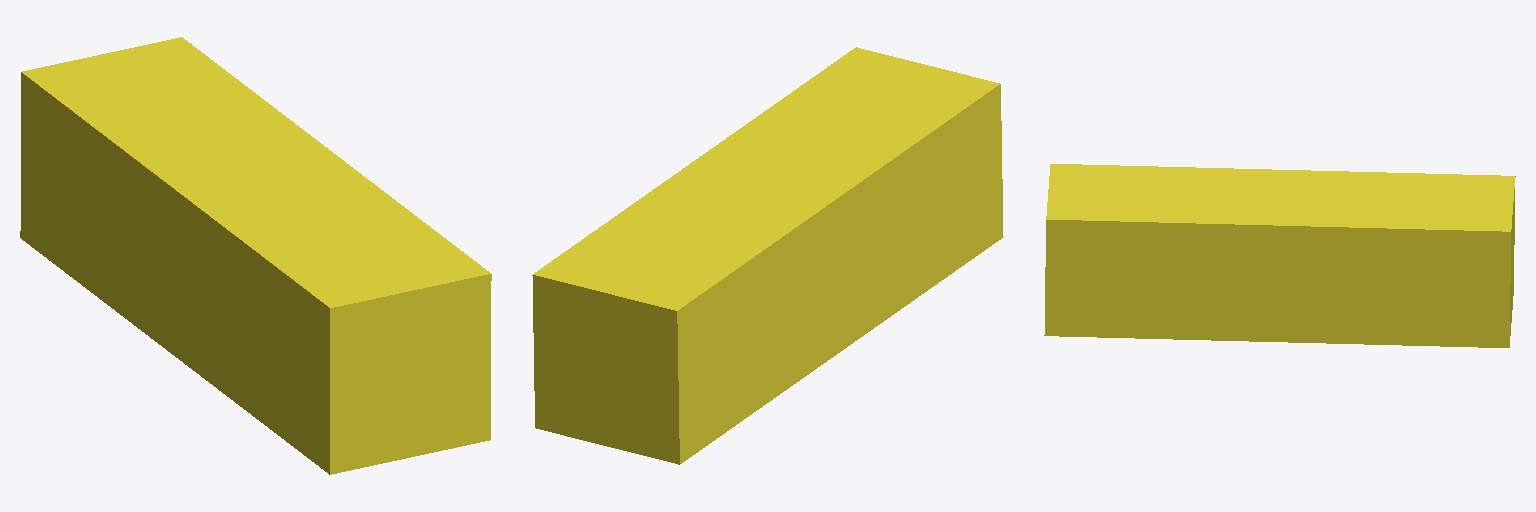
URDF robot description (rebot_wrist_d435i):
<?xml version='1.0' encoding='utf-8'?>
<robot name="rebot_wrist_d435i">
  <link name="gripper_end" />
  <material name="aluminum">
    <color rgba="0.5 0.5 0.5 1" />
  </material>
  <material name="plastic">
    <color rgba="0.1 0.1 0.1 1" />
  </material>
  <link name="camera_mount_link">
    <visual>
      <origin rpy="0 0 0" xyz="0.0002 -0.04472 0.03452" />
      <geometry>
        <mesh filename="package://rebot_mount/gemini2-gemini336-d435i/Gemini2_Gemini336_D435i_Mount.stl" scale="0.001 0.001 0.001" />
      </geometry>
      <material name="camera_mount_black">
        <color rgba="0.035 0.035 0.04 1" />
      </material>
    </visual>
  </link>
  <joint name="gripper_to_mount" type="fixed">
    <parent link="gripper_end" />
    <child link="camera_mount_link" />
    <origin rpy="1.5827 0.0024 1.5515" xyz="-0.1201 0.0003 0.0450" />
  </joint>
  <joint name="camera_joint" type="fixed">
    <origin rpy="1.6955789909 -1.5570594828 3.0057523044" xyz="-0.0000995208 0.0023324976 0.0260121378" />
    <parent link="camera_mount_link" />
    <child link="camera_bottom_screw_frame" />
  </joint>
  <link name="camera_bottom_screw_frame" />
  <joint name="camera_link_joint" type="fixed">
    <origin rpy="0 0 0" xyz="0.010600000000000002 0.0175 0.0125" />
    <parent link="camera_bottom_screw_frame" />
    <child link="camera_link" />
  </joint>
  <link name="camera_link">
    <visual>
      <origin rpy="0 0 0" xyz="0 -0.0175 0" />
      <geometry>
        <box size="0.02505 0.09 0.025" />
      </geometry>
    </visual>
    <collision>
      <origin rpy="0 0 0" xyz="0 -0.0175 0" />
      <geometry>
        <box size="0.02505 0.09 0.025" />
      </geometry>
    </collision>
    <inertial>
      <mass value="0.072" />
      <origin xyz="0 0 0" />
      <inertia ixx="0.003881243" ixy="0.0" ixz="0.0" iyy="0.000498940" iyz="0.0" izz="0.003879257" />
    </inertial>
  </link>
  <joint name="camera_depth_joint" type="fixed">
    <origin rpy="0 0 0" xyz="0 0 0" />
    <parent link="camera_link" />
    <child link="camera_depth_frame" />
  </joint>
  <link name="camera_depth_frame" />
  <joint name="camera_depth_optical_joint" type="fixed">
    <origin rpy="-1.5707963267948966 0 -1.5707963267948966" xyz="0 0 0" />
    <parent link="camera_depth_frame" />
    <child link="camera_depth_optical_frame" />
  </joint>
  <link name="camera_depth_optical_frame" />
  <joint name="camera_infra1_joint" type="fixed">
    <origin rpy="0 0 0" xyz="0 0.0 0" />
    <parent link="camera_link" />
    <child link="camera_infra1_frame" />
  </joint>
  <link name="camera_infra1_frame" />
  <joint name="camera_infra1_optical_joint" type="fixed">
    <origin rpy="-1.5707963267948966 0 -1.5707963267948966" xyz="0 0 0" />
    <parent link="camera_infra1_frame" />
    <child link="camera_infra1_optical_frame" />
  </joint>
  <link name="camera_infra1_optical_frame" />
  <joint name="camera_infra2_joint" type="fixed">
    <origin rpy="0 0 0" xyz="0 -0.05 0" />
    <parent link="camera_link" />
    <child link="camera_infra2_frame" />
  </joint>
  <link name="camera_infra2_frame" />
  <joint name="camera_infra2_optical_joint" type="fixed">
    <origin rpy="-1.5707963267948966 0 -1.5707963267948966" xyz="0 0 0" />
    <parent link="camera_infra2_frame" />
    <child link="camera_infra2_optical_frame" />
  </joint>
  <link name="camera_infra2_optical_frame" />
  <joint name="camera_color_joint" type="fixed">
    <origin rpy="0 0 0" xyz="0 0.015 0" />
    <parent link="camera_link" />
    <child link="camera_color_frame" />
  </joint>
  <link name="camera_color_frame" />
  <joint name="camera_color_optical_joint" type="fixed">
    <origin rpy="-1.5707963267948966 0 -1.5707963267948966" xyz="0 0 0" />
    <parent link="camera_color_frame" />
    <child link="camera_color_optical_frame" />
  </joint>
  <link name="camera_color_optical_frame" />
  <link name="camera_accel_frame" />
  <link name="camera_accel_optical_frame" />
  <link name="camera_gyro_frame" />
  <link name="camera_gyro_optical_frame" />
  <joint name="camera_accel_joint" type="fixed">
    <origin rpy="0 0 0" xyz="-0.01174 -0.00552 0.0051" />
    <parent link="camera_link" />
    <child link="camera_accel_frame" />
  </joint>
  <joint name="camera_accel_optical_joint" type="fixed">
    <origin rpy="-1.5707963267948966 0 -1.5707963267948966" xyz="0 0 0" />
    <parent link="camera_accel_frame" />
    <child link="camera_accel_optical_frame" />
  </joint>
  <joint name="camera_gyro_joint" type="fixed">
    <origin rpy="0 0 0" xyz="-0.01174 -0.00552 0.0051" />
    <parent link="camera_link" />
    <child link="camera_gyro_frame" />
  </joint>
  <joint name="camera_gyro_optical_joint" type="fixed">
    <origin rpy="-1.5707963267948966 0 -1.5707963267948966" xyz="0 0 0" />
    <parent link="camera_gyro_frame" />
    <child link="camera_gyro_optical_frame" />
  </joint>
</robot>

--- Facts derived from the render (not from the file) ---
The picture shows the robot from 3 angles, left to right: view 1: azimuth 30°, elevation 25°; view 2: azimuth 150°, elevation 25°; view 3: azimuth 270°, elevation 25°; orthographic projection.
Robot: rebot_wrist_d435i — 16 links, 15 joints (15 fixed); root link gripper_end; default pose: all joints at 0.
Visible links, largest first — view 1: camera_link; view 2: camera_link; view 3: camera_link.
Boxes of the visible links, <box> form: camera_link: <box>20,37,491,474</box>; camera_link: <box>532,47,1003,464</box>; camera_link: <box>1044,164,1515,347</box>.
Size in the robot's own frame: 0.0282 by 0.0911 by 0.0265 metres.
Meshes: 1 distinct files referenced, 0 mesh visuals loaded (none loaded); not drawn: 1 (reference not matched to a file when rendering).
